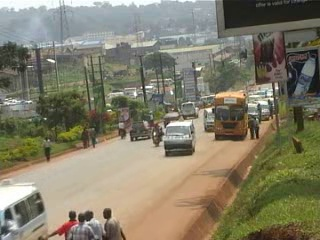Car: (127, 119, 154, 141), (160, 111, 193, 127)
Motorcycle: (150, 125, 163, 148), (113, 123, 127, 140)
